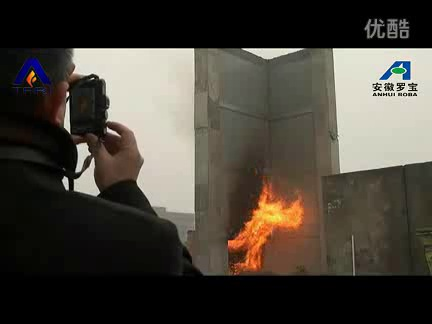fire: (227, 184, 304, 275)
